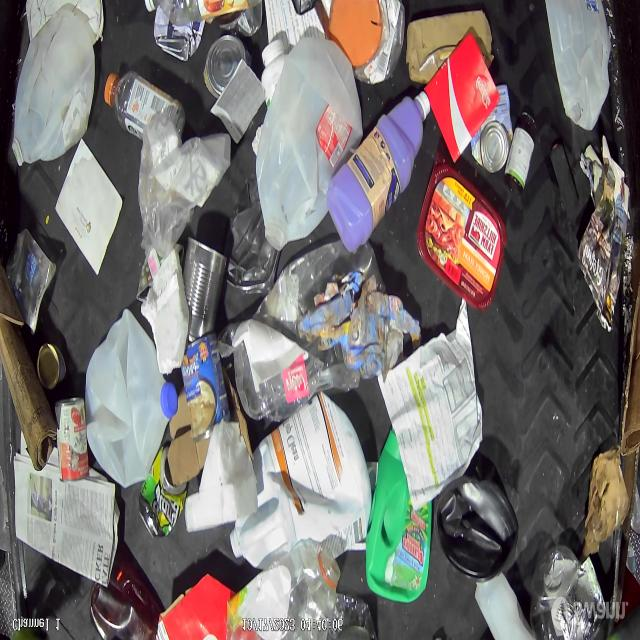can: (184, 236, 228, 343), (140, 442, 188, 538), (475, 83, 516, 174), (56, 394, 90, 484), (205, 31, 243, 100), (36, 339, 66, 394)
milk_jug: (230, 394, 372, 568), (256, 39, 363, 250), (86, 309, 176, 490), (11, 16, 98, 168), (548, 0, 613, 130)
non_white_jug: (326, 89, 430, 253), (366, 429, 433, 604), (434, 472, 519, 582)
plastic_bottle: (104, 68, 186, 142)
